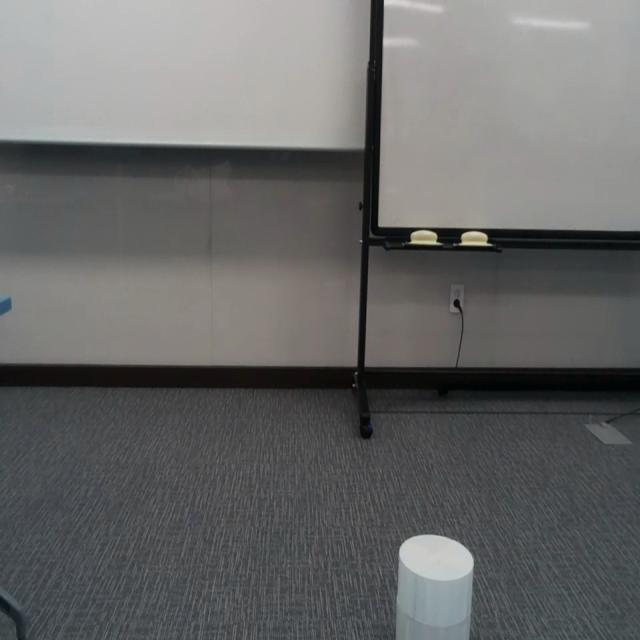cylinder: (394, 532, 474, 640)
